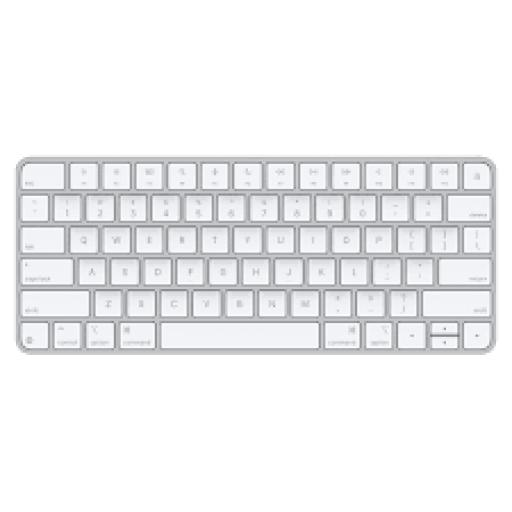keyboard: (18, 149, 500, 359)
